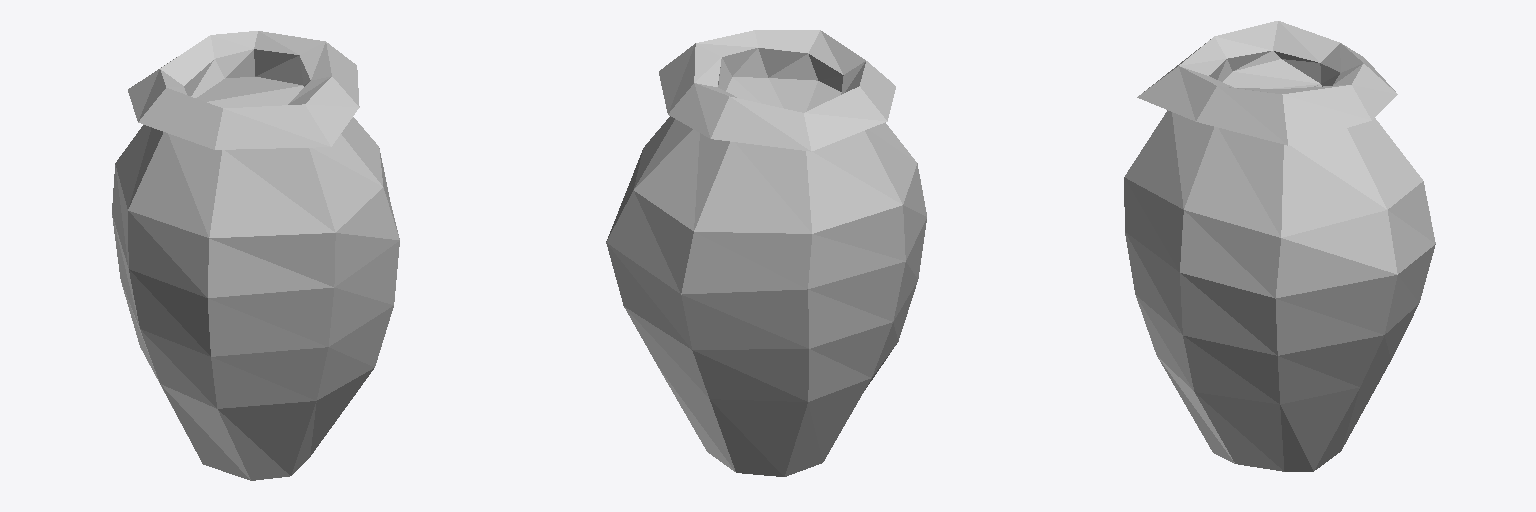
Rendered from Sponge_B_02_LOD2.obj.
The picture shows the model from 3 angles: view 1: azimuth 30°, elevation 25°; view 2: azimuth 150°, elevation 25°; view 3: azimuth 270°, elevation 25°; orthographic projection.
Parts seen in each view (by area): view 1: Sponge_B_02_LOD2_Cylinder.427; view 2: Sponge_B_02_LOD2_Cylinder.427; view 3: Sponge_B_02_LOD2_Cylinder.427.
Part boxes in pixels (x1,y1,x2,y2): Sponge_B_02_LOD2_Cylinder.427: (112, 31, 399, 480); Sponge_B_02_LOD2_Cylinder.427: (606, 30, 926, 476); Sponge_B_02_LOD2_Cylinder.427: (1124, 21, 1435, 471).
Bounding box in the file's own units: 2.52 × 3.56 × 2.56.